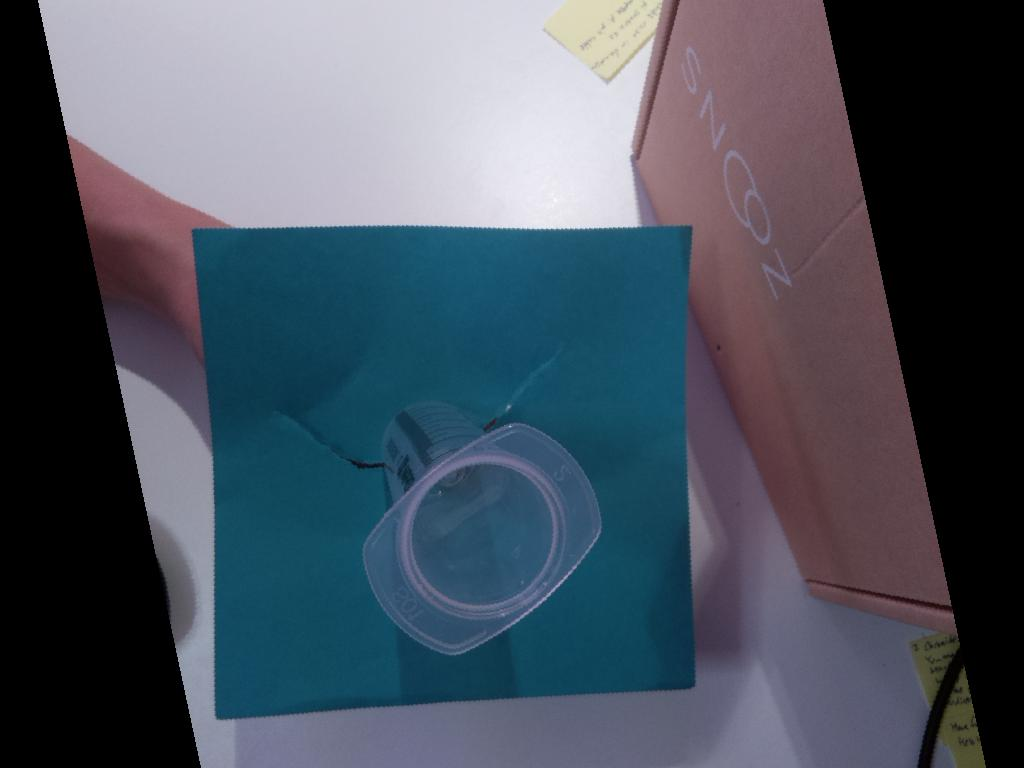clean: (360, 423, 607, 656)
